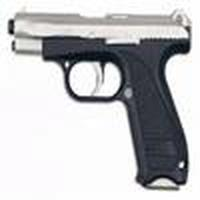gun: (8, 6, 200, 121)
